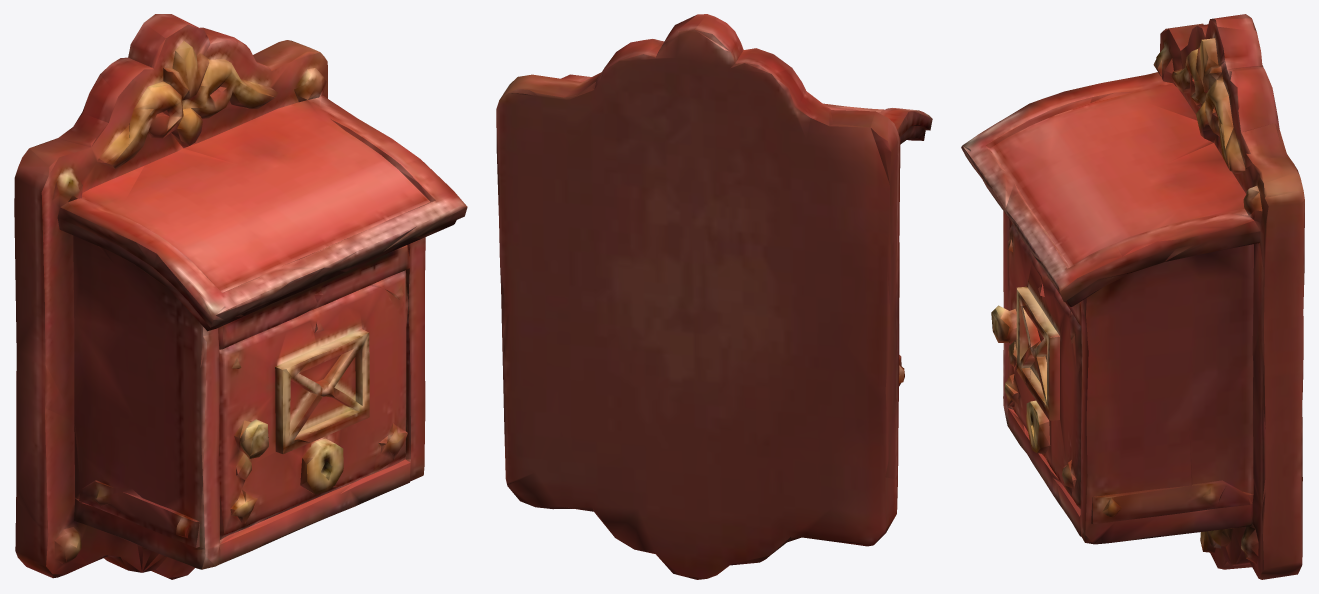
File: wall21.glb
3 renders of one model, left to right at view 1: azimuth 30°, elevation 25°; view 2: azimuth 150°, elevation 25°; view 3: azimuth 270°, elevation 25°, orthographic.
Bounding box in the file's own units: 0.1969 × 0.2716 × 0.1556.
Materials: 1 (1 with a texture image).
